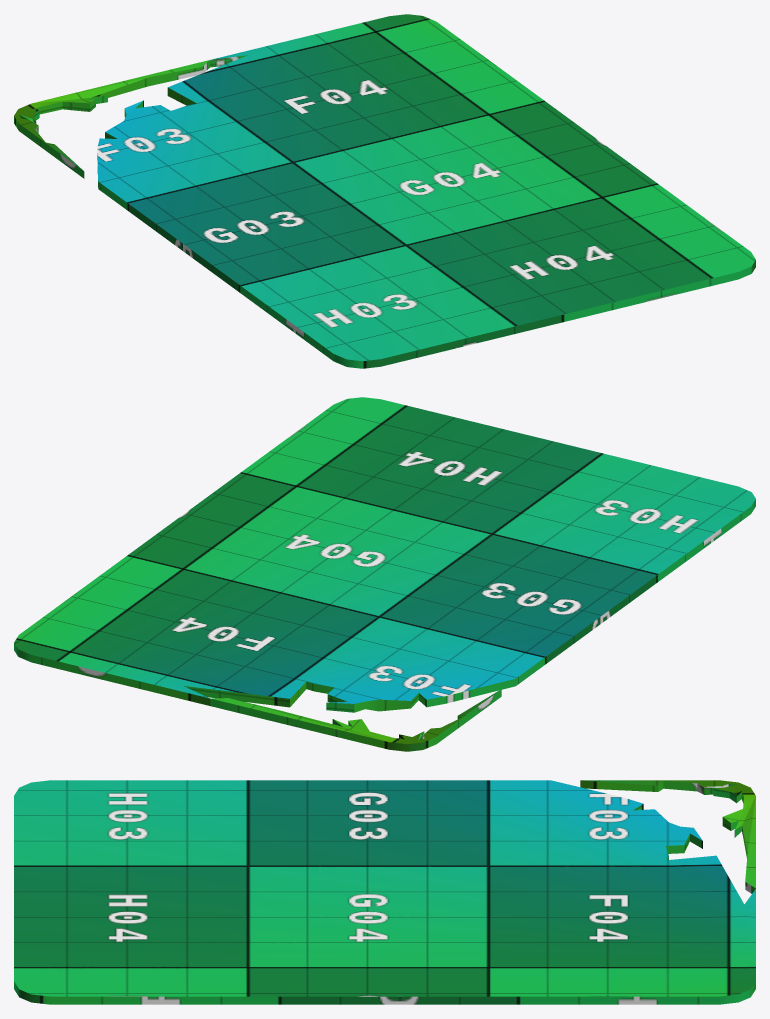
The model's file is SmallBrokenGlass3.fbx.
3 views of the same model, one above another, from view 1: azimuth 30°, elevation 25°; view 2: azimuth 150°, elevation 25°; view 3: azimuth 270°, elevation 25° (orthographic). The views are drawn at different scales.
Visible parts, largest first — view 1: SmallFrameBroken01_low; view 2: SmallFrameBroken01_low; view 3: SmallFrameBroken01_low.
Boxes of the visible parts, <box> form: SmallFrameBroken01_low: <box>14,14,755,368</box>; SmallFrameBroken01_low: <box>14,397,755,751</box>; SmallFrameBroken01_low: <box>14,780,755,1004</box>.
Size of the model in its own units: 44.48 by 1.36 by 64.45.
